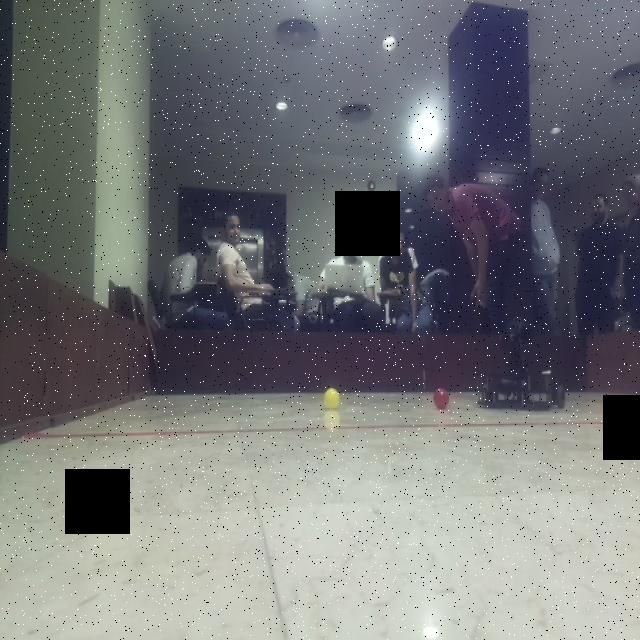ball: (429, 383, 454, 414), (320, 383, 345, 410)
